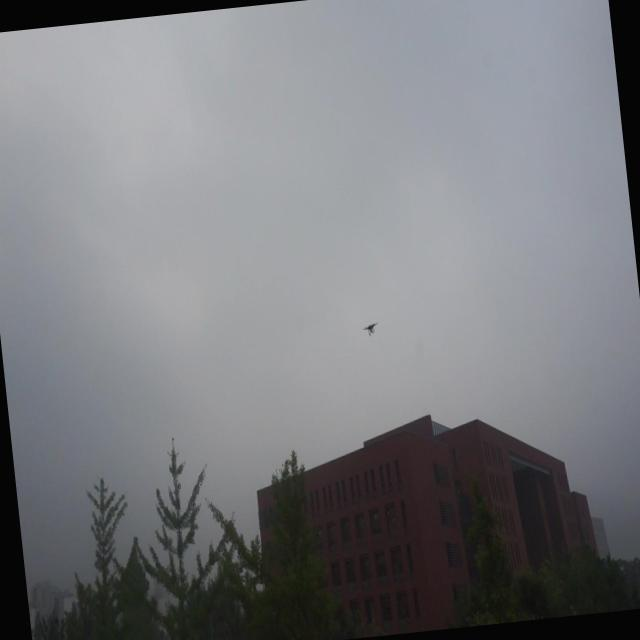drone: (360, 319, 380, 340)
